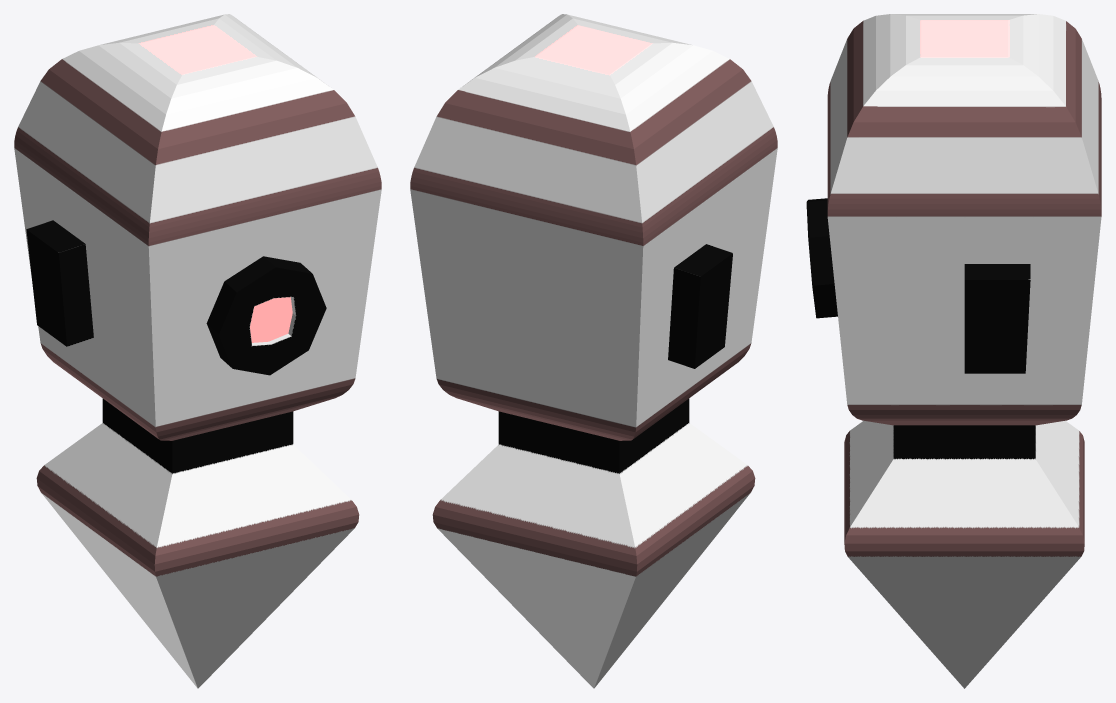
File: GroundBotEnemy.fbx
3 views of the same model, side by side, from view 1: azimuth 30°, elevation 25°; view 2: azimuth 150°, elevation 25°; view 3: azimuth 270°, elevation 25° (orthographic).
Visible parts, largest first — view 1: Cube; view 2: Cube; view 3: Cube.
Part boxes in pixels (box(x1,y1,x2,y2)): Cube: box(14, 14, 381, 688); Cube: box(410, 14, 777, 688); Cube: box(806, 14, 1101, 688).
Bounding box in the file's own units: 258 × 567 × 233.
